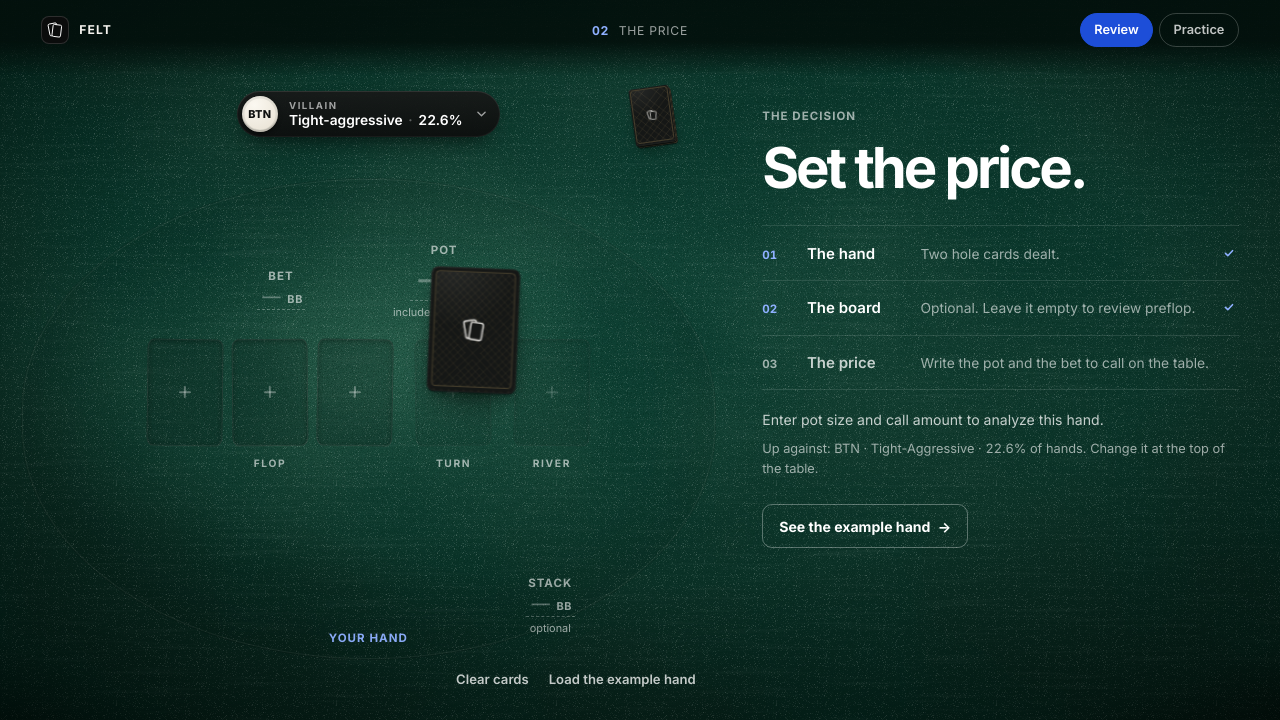
card selection › deals a typed card: rank, then suit
Step 1. Click the button named "Select Turn" → coordinates (454, 393), box [415,339,492,446]
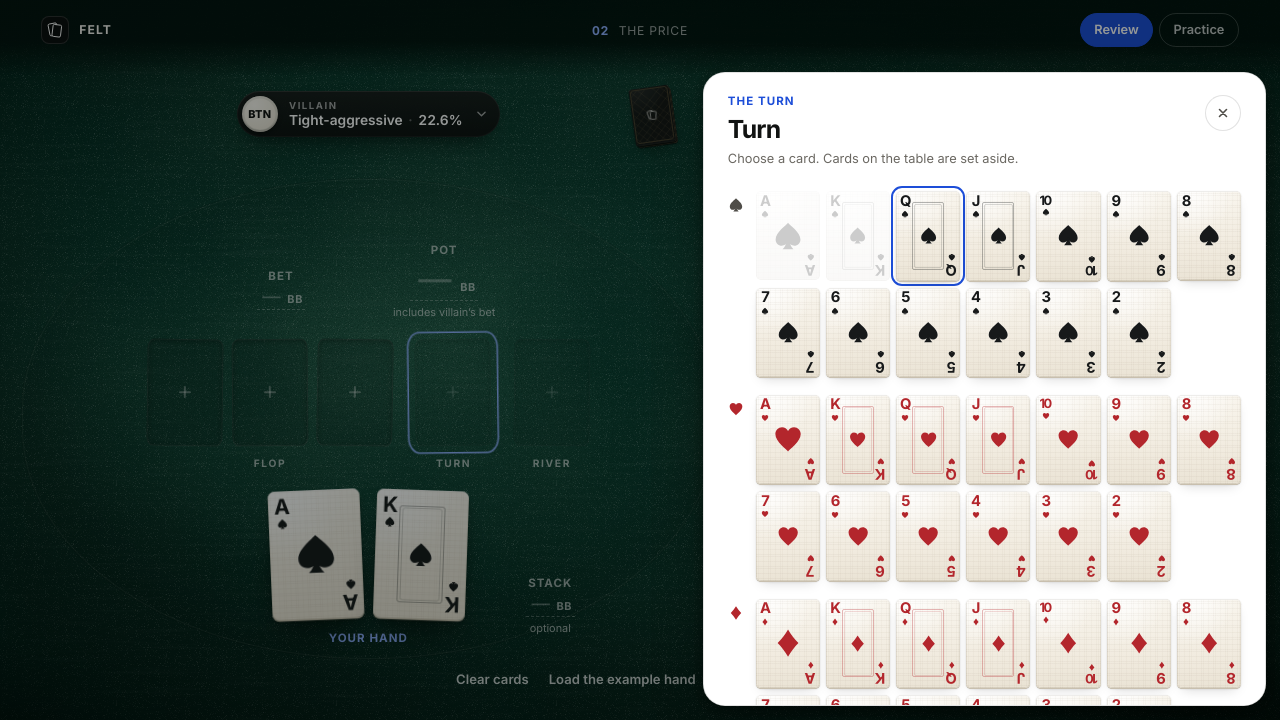
Expected: the dialog is shown, [703,72,1266,706]
Step 2. Type keys "qh"
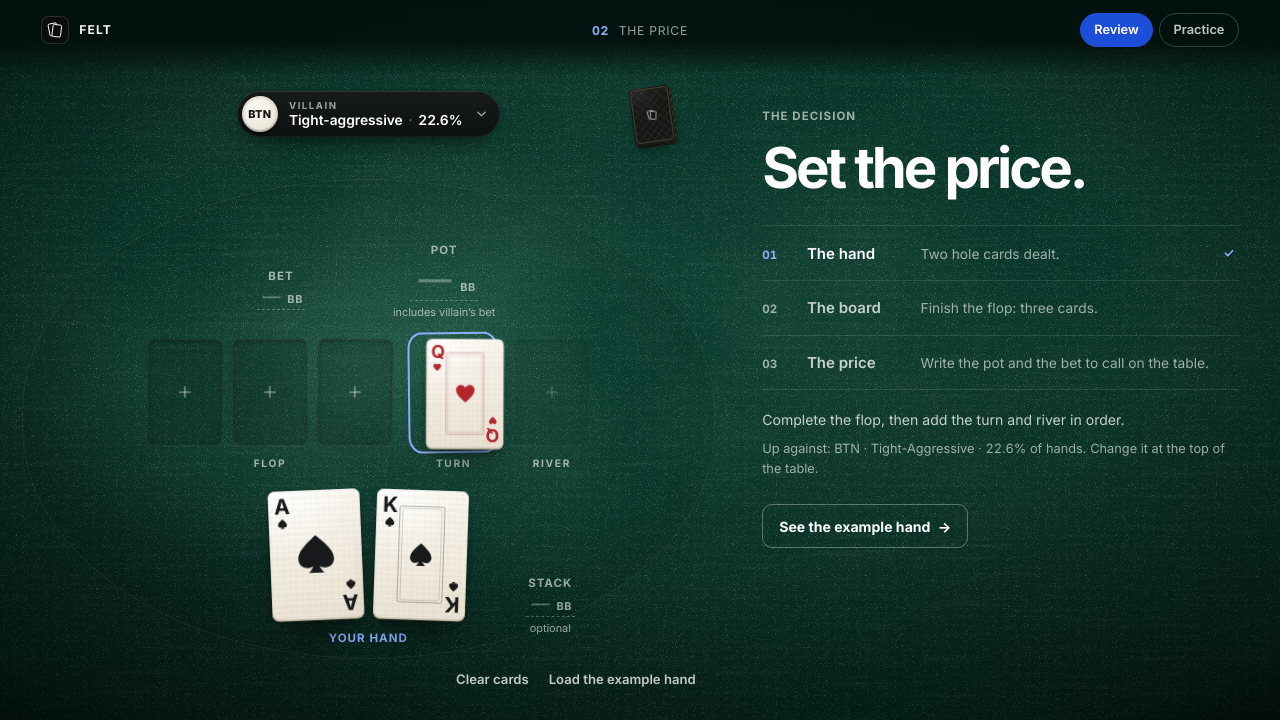
Expected: the dialog is gone
Expected: the button named "Change Turn: Q of Hearts" is shown, [415,339,492,446]
